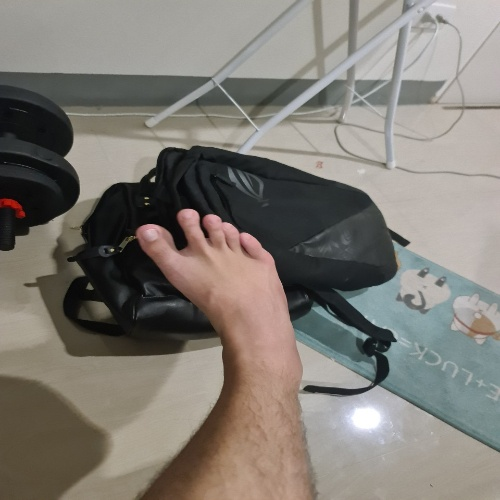3: (136, 224, 180, 268)
Top_Foot: (138, 207, 305, 395)
